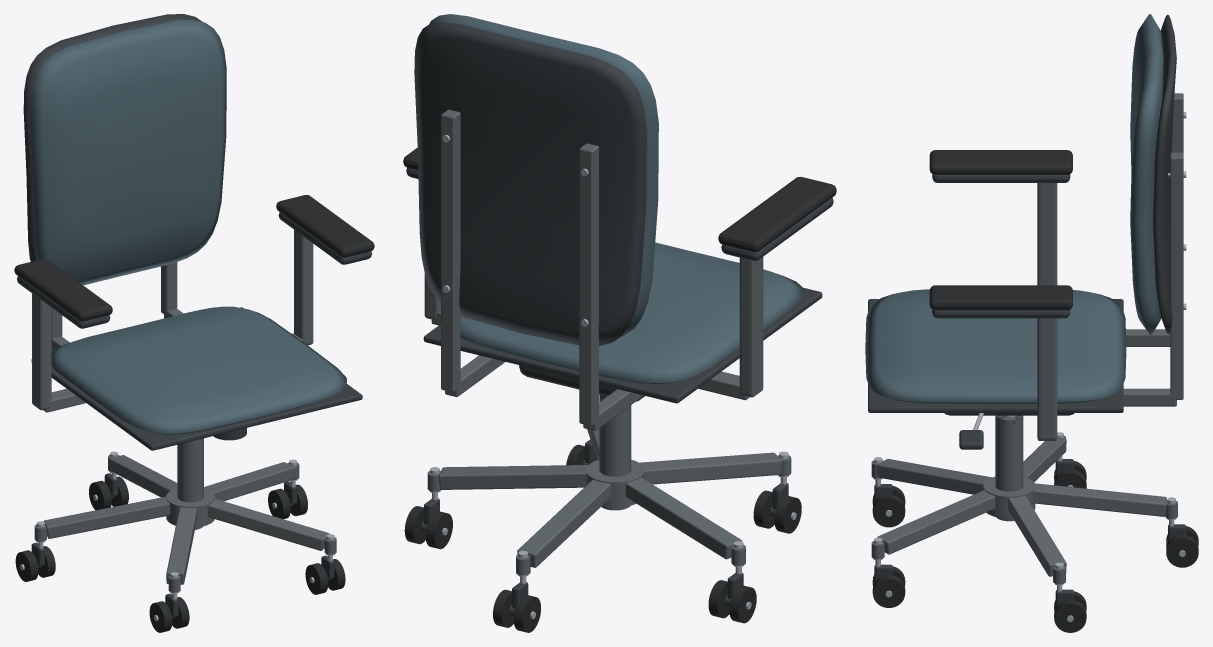
3 renders of one model, left to right at view 1: azimuth 30°, elevation 25°; view 2: azimuth 150°, elevation 25°; view 3: azimuth 270°, elevation 25°, orthographic. The views are drawn at different scales.
Parts seen in each view (by area): view 1: Back_cushion, Seat_cushion, Seat_under_shell, Back_shell, Arm_pad_-1, Arm_pad_1, Spoke_1, Spoke_3, Arm_post_-1, Arm_post_1, Spoke_4, Column_sleeve (+12 smaller); view 2: Back_shell, Seat_cushion, Back_upright_-1, Back_cushion, Back_upright_1, Seat_under_shell, Arm_pad_-1, Spoke_4, Arm_post_-1, Spoke_2, Spoke_1, Spoke_0 (+15 smaller); view 3: Seat_cushion, Back_cushion, Back_shell, Arm_pad_1, Arm_pad_-1, Back_upright_1, Seat_under_shell, Spoke_0, Spoke_3, Arm_post_1, Spoke_2, Arm_post_-1 (+15 smaller).
Part boxes in pixels (left/top/right/bottom): Back_cushion: left=30, top=20, right=226, bottom=285; Seat_cushion: left=51, top=306, right=346, bottom=434; Seat_under_shell: left=31, top=307, right=362, bottom=450; Back_shell: left=23, top=14, right=202, bottom=261; Arm_pad_-1: left=14, top=258, right=112, bottom=321; Arm_pad_1: left=276, top=195, right=374, bottom=257; Spoke_1: left=43, top=496, right=170, bottom=538; Spoke_3: left=207, top=498, right=329, bottom=550; Arm_post_-1: left=32, top=293, right=51, bottom=410; Arm_post_1: left=294, top=230, right=313, bottom=345; Spoke_4: left=204, top=462, right=295, bottom=501; Column_sleeve: left=177, top=438, right=203, bottom=502; Back_shell: left=414, top=21, right=646, bottom=345; Seat_cushion: left=460, top=242, right=803, bottom=384; Back_upright_-1: left=579, top=143, right=598, bottom=425; Back_cushion: left=429, top=14, right=658, bottom=335; Back_upright_1: left=441, top=109, right=460, bottom=392; Seat_under_shell: left=423, top=287, right=822, bottom=403; Arm_pad_-1: left=718, top=177, right=836, bottom=252; Spoke_4: left=438, top=465, right=587, bottom=489; Arm_post_-1: left=739, top=257, right=763, bottom=397; Spoke_2: left=639, top=452, right=782, bottom=484; Spoke_1: left=625, top=477, right=742, bottom=559; Spoke_0: left=517, top=479, right=610, bottom=567; Seat_cushion: left=865, top=289, right=1126, bottom=404; Back_cushion: left=1130, top=14, right=1163, bottom=334; Back_shell: left=1152, top=14, right=1176, bottom=334; Arm_pad_1: left=929, top=285, right=1072, bottom=310; Arm_pad_-1: left=929, top=150, right=1072, bottom=174; Back_upright_1: left=1170, top=152, right=1183, bottom=399; Seat_under_shell: left=868, top=299, right=1123, bottom=412; Spoke_0: left=1033, top=483, right=1166, bottom=516; Spoke_3: left=877, top=490, right=995, bottom=554; Arm_post_1: left=1037, top=318, right=1057, bottom=440; Spoke_2: left=877, top=458, right=991, bottom=494; Arm_post_-1: left=1037, top=183, right=1057, bottom=285.
Size of the model in its own units: 0.67 by 1.05 by 0.6165.
